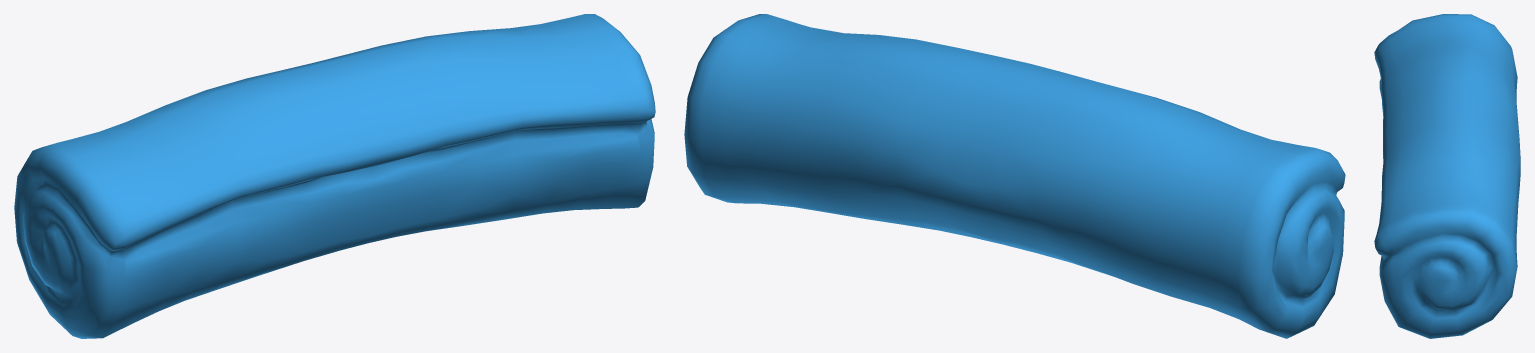
Rendered from Rag_bag.fbx.
The picture shows the model from 3 angles, left to right: view 1: azimuth 30°, elevation 25°; view 2: azimuth 150°, elevation 25°; view 3: azimuth 270°, elevation 25°; orthographic projection. The views are drawn at different scales.
Parts seen in each view (by area): view 1: Object006; view 2: Object006; view 3: Object006.
Boxes of the visible parts, x1,y1,x2,y2 form: Object006: (14,14,655,338); Object006: (684,14,1345,338); Object006: (1374,14,1520,338).
Bounding box in the file's own units: 80.5 × 25.86 × 23.33.
